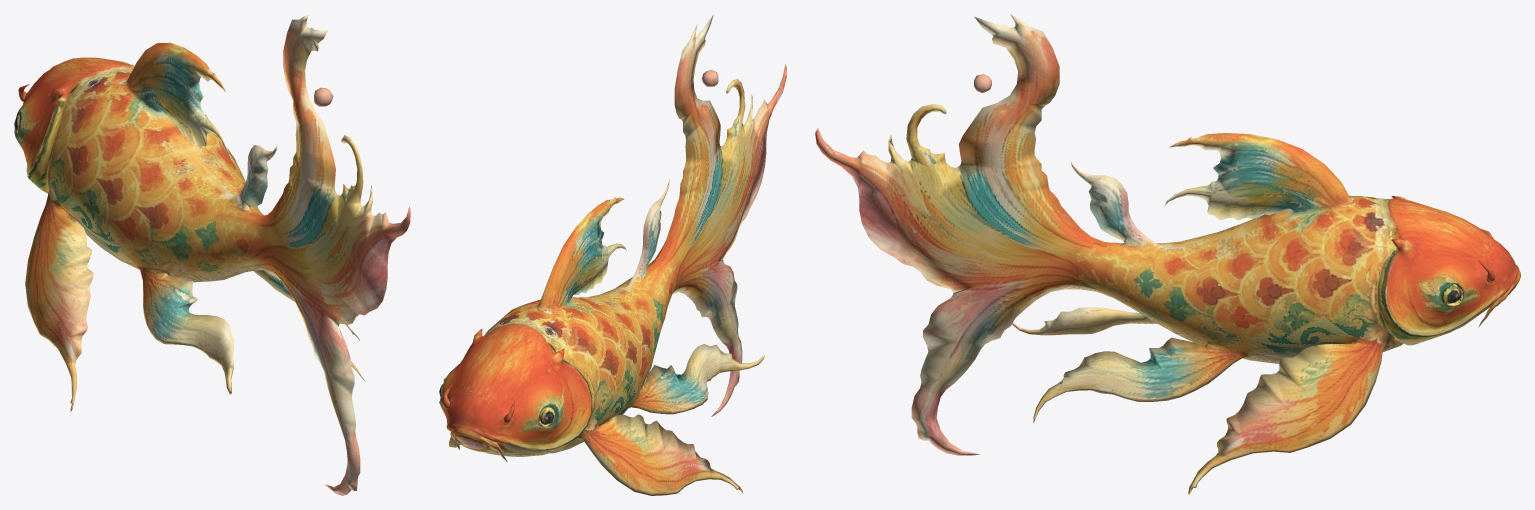
Rendered from 浮金鱼影tripo.glb.
The picture shows the model from 3 angles, left to right: view 1: azimuth 30°, elevation 25°; view 2: azimuth 150°, elevation 25°; view 3: azimuth 270°, elevation 25°; orthographic projection. The views are drawn at different scales.
Visible parts, largest first — view 1: tripo_node_dd702dd8-5078-49da-82b9-2454540309a0; view 2: tripo_node_dd702dd8-5078-49da-82b9-2454540309a0; view 3: tripo_node_dd702dd8-5078-49da-82b9-2454540309a0.
Part boxes in pixels (x1,y1,x2,y2): tripo_node_dd702dd8-5078-49da-82b9-2454540309a0: [14, 14, 410, 495]; tripo_node_dd702dd8-5078-49da-82b9-2454540309a0: [439, 15, 786, 495]; tripo_node_dd702dd8-5078-49da-82b9-2454540309a0: [815, 14, 1520, 495].
Bounding box in the file's own units: 0.4551 × 0.6895 × 0.998.
1 material, 1 textured.
